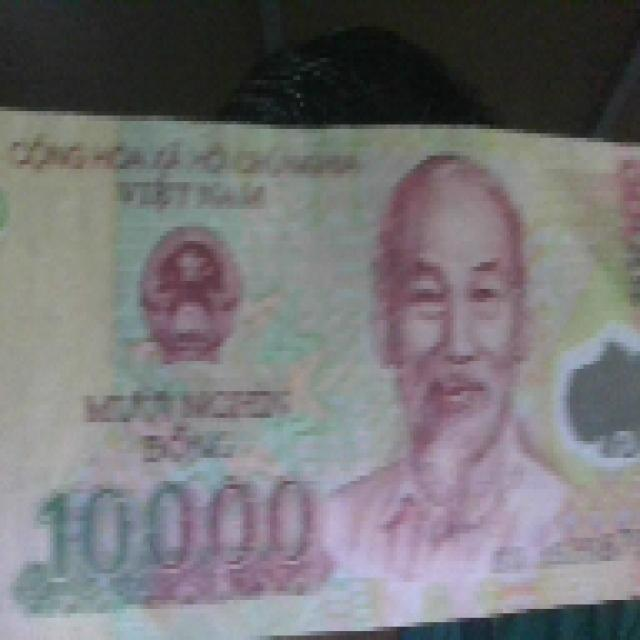10 000 VND: (0, 98, 637, 636)
